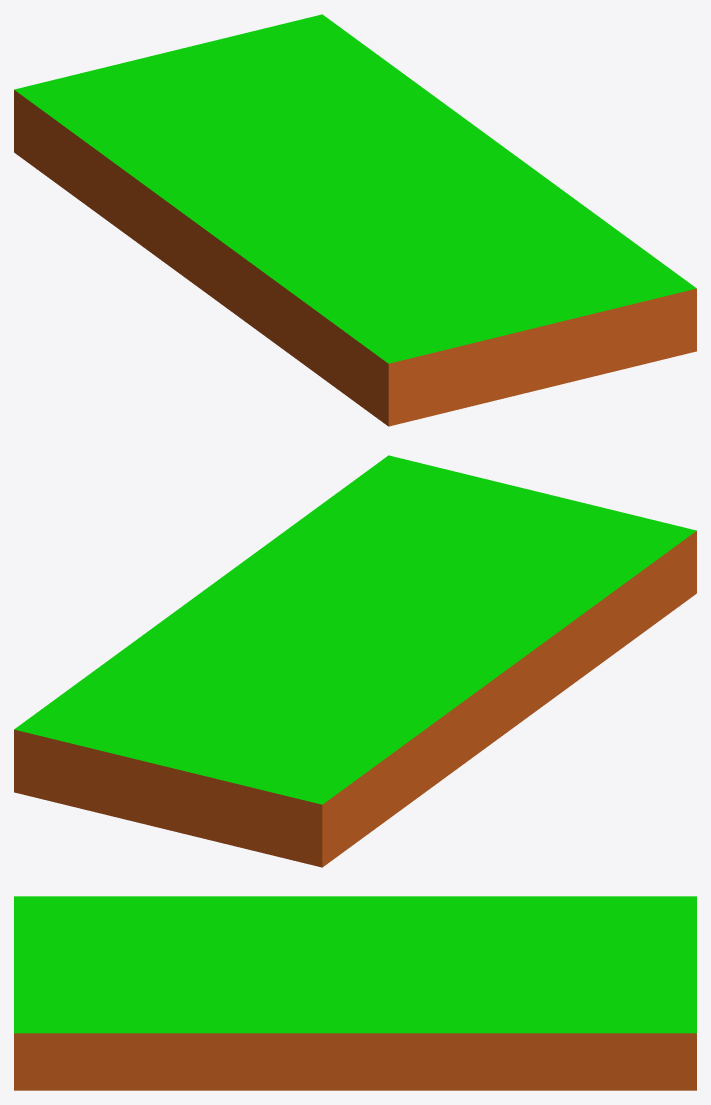
File: Ground_2.fbx
3 renders of one model, top to bottom at view 1: azimuth 30°, elevation 25°; view 2: azimuth 150°, elevation 25°; view 3: azimuth 270°, elevation 25°, orthographic. The views are drawn at different scales.
Visible parts, largest first — view 1: Ground_2; view 2: Ground_2; view 3: Ground_2.
Boxes of the visible parts, box(x1,y1,x2,y2) form: Ground_2: box(14, 14, 696, 426); Ground_2: box(14, 455, 696, 867); Ground_2: box(14, 896, 696, 1090).
Size of the model in its own units: 9.22 by 1.8 by 19.4.
